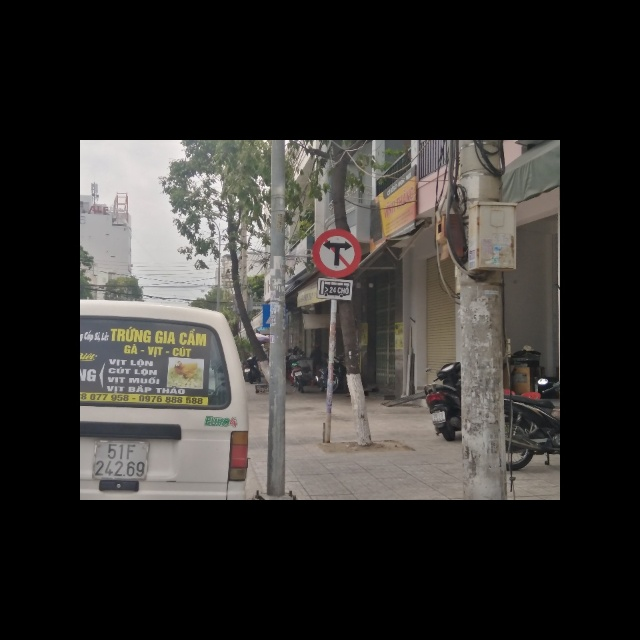Cấm rẽ trái và rẽ phải: (313, 229, 362, 277)
